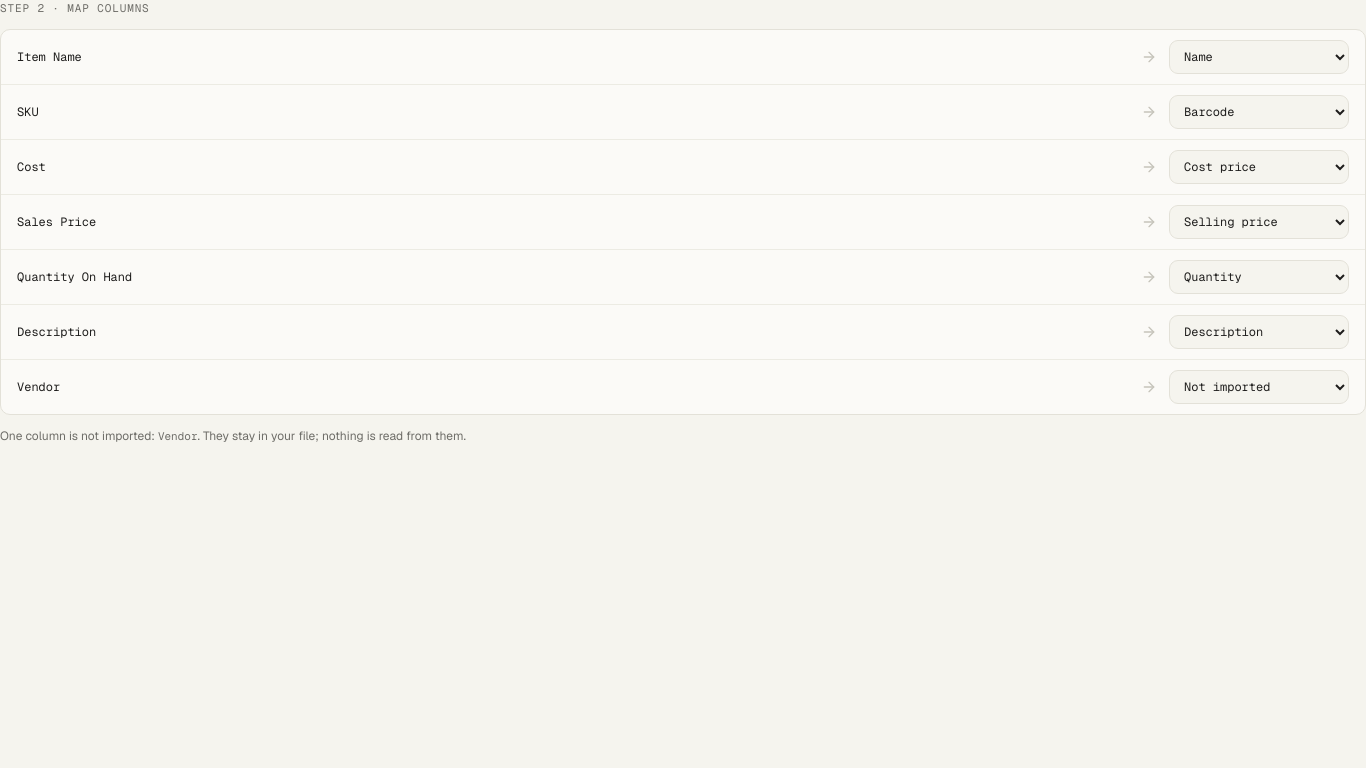
Test case: ColumnMapStep › recognises the two-fields-one-header shape keyed by columnMap
Select "Unit" in the dropdown labelled "Vendor": (1259, 386) [1169,370,1349,404]
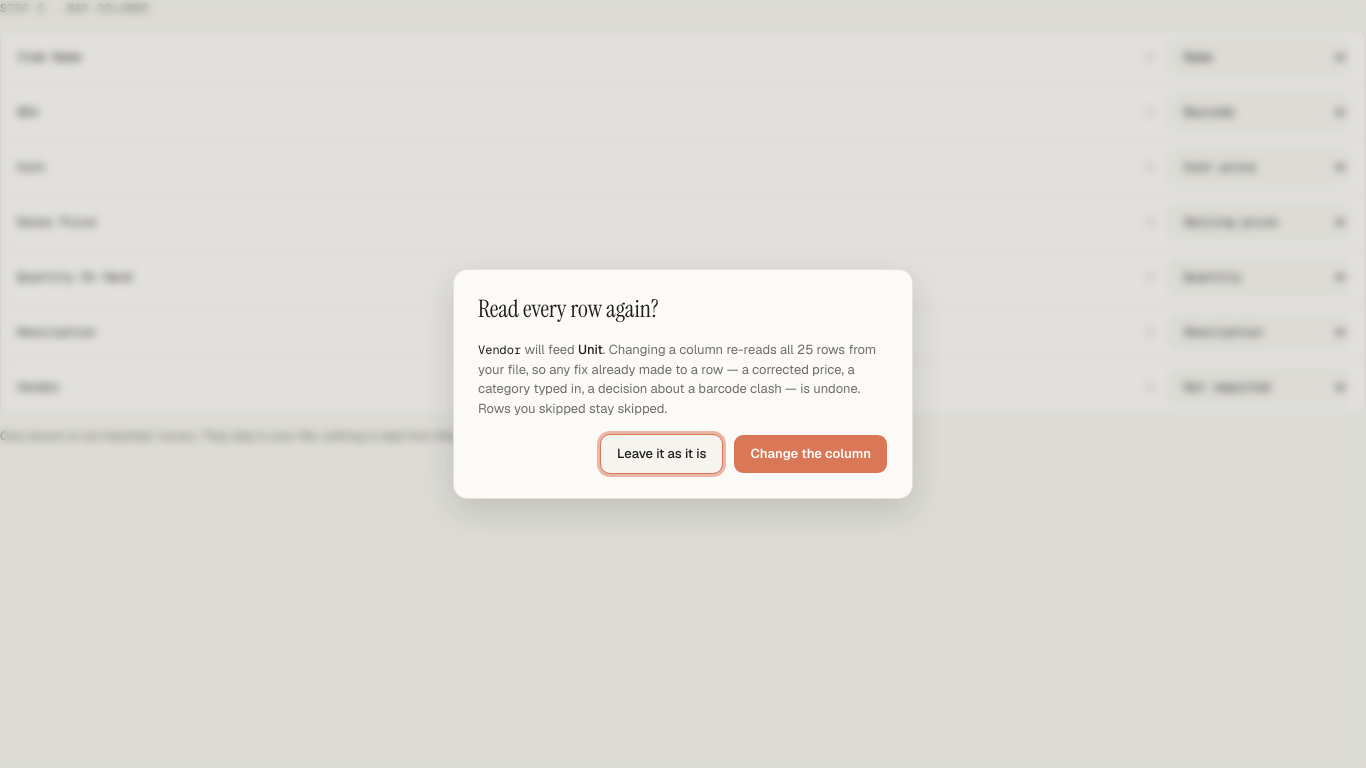
Click the button "Change the column": (811, 454) [734,434,888,474]
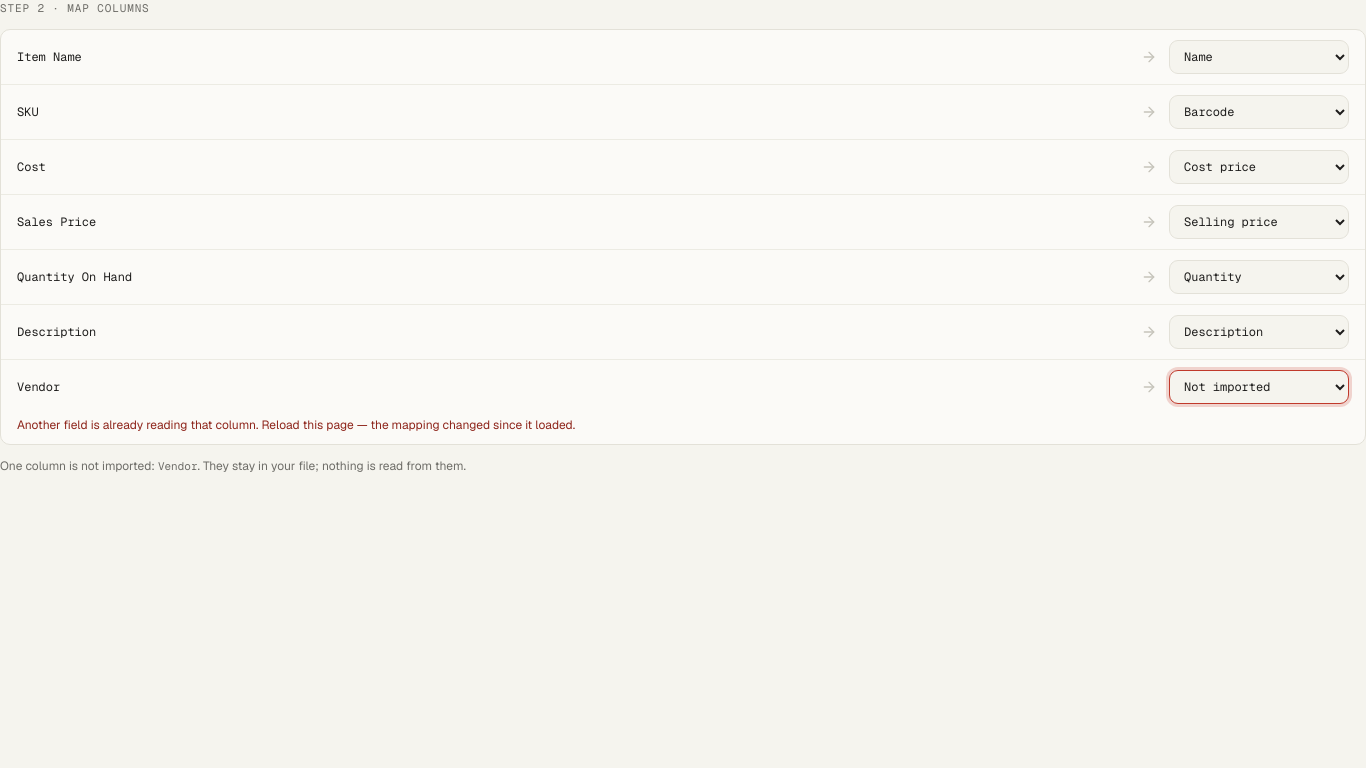
Now the message shows "Another field is already reading that column", box [17,416,575,432]
